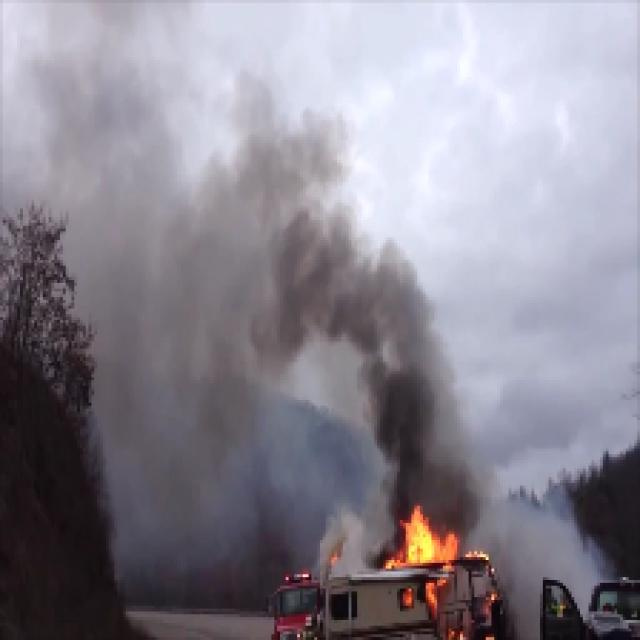smoke: (109, 136, 313, 484)
